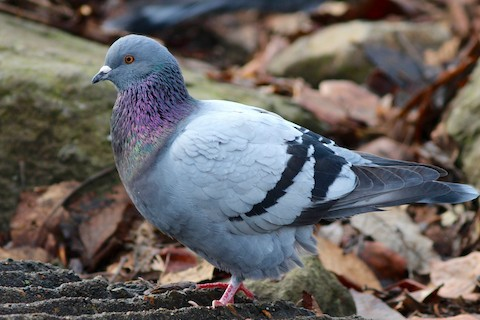pigeon: (90, 28, 480, 315)
